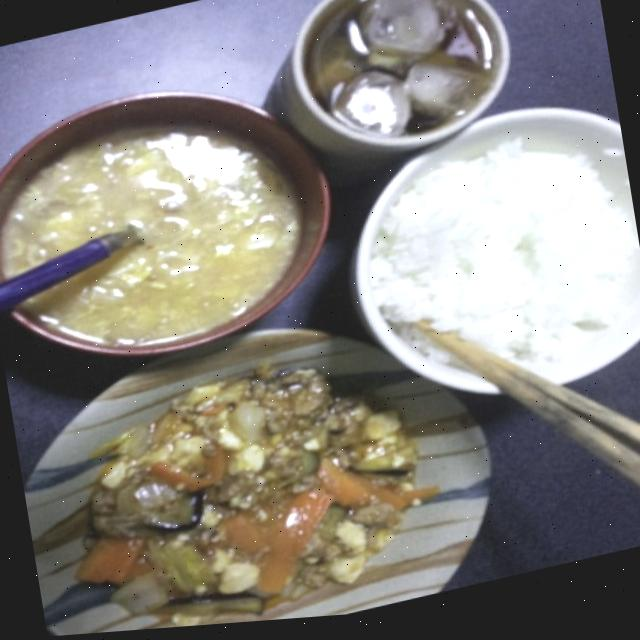汤锅炖物: (0, 47, 367, 399)
米饭主食: (318, 89, 640, 442)
